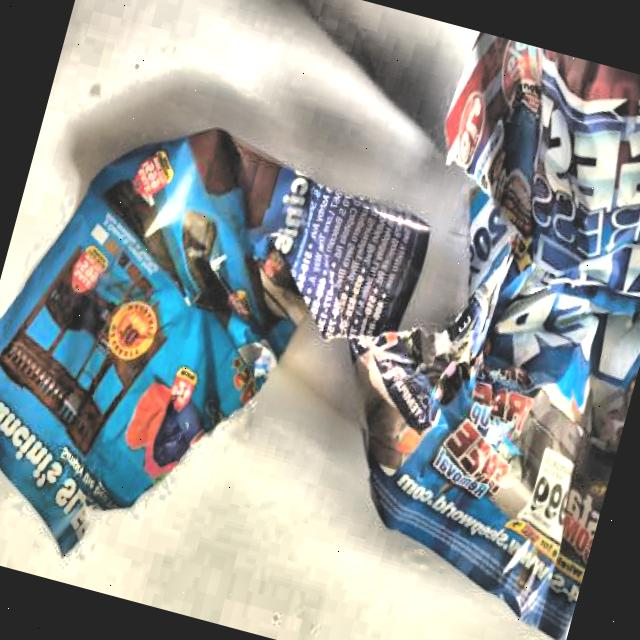paper: (0, 105, 423, 578), (336, 30, 640, 618)
